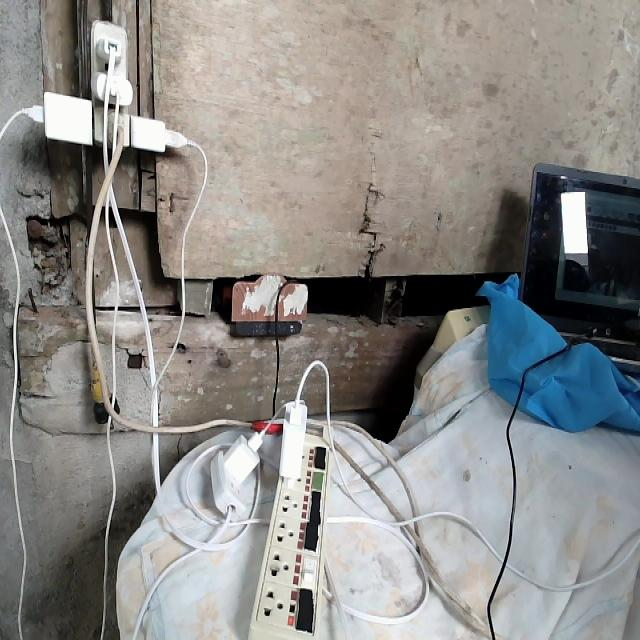-: (21, 17, 193, 155)
